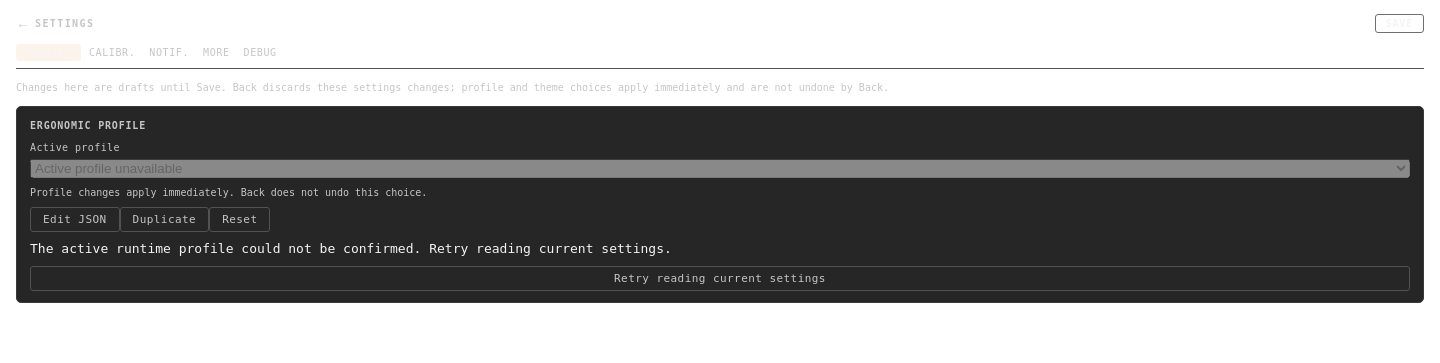
Test: SettingsPanel › keeps settings open and reports the backend error when saving fails
Expected: the heading "Ergonomic Profile" is shown, [30,120,146,131]
Click the button "Save": click(1399, 24) [1375,14,1424,33]
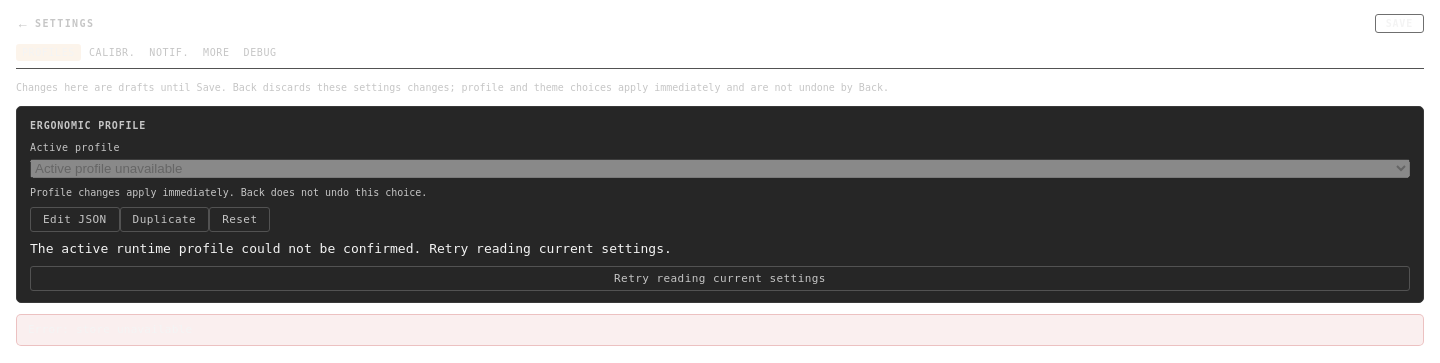
Now the text "Error: store unavailable" is shown, box [16,314,1424,346]
